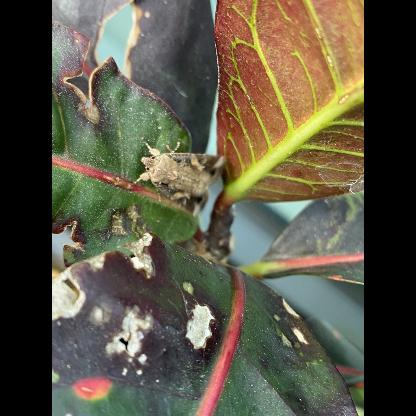Fall Armyworm Moth: (126, 139, 228, 221)
